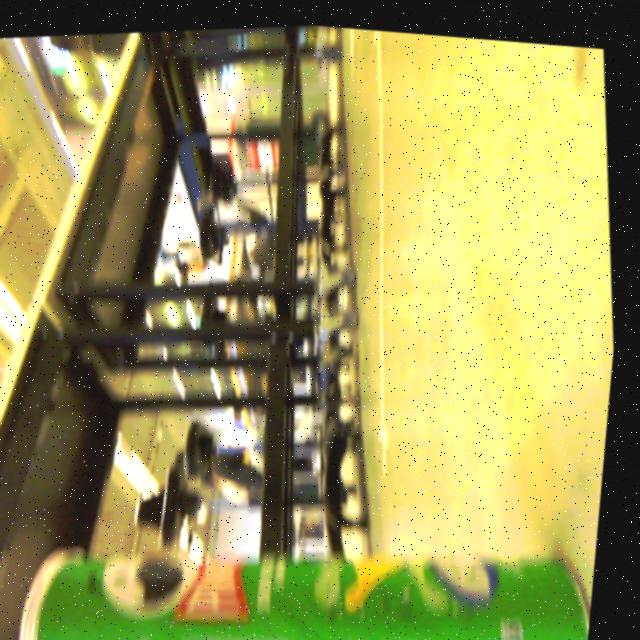greenpringles: (6, 468, 607, 640)
